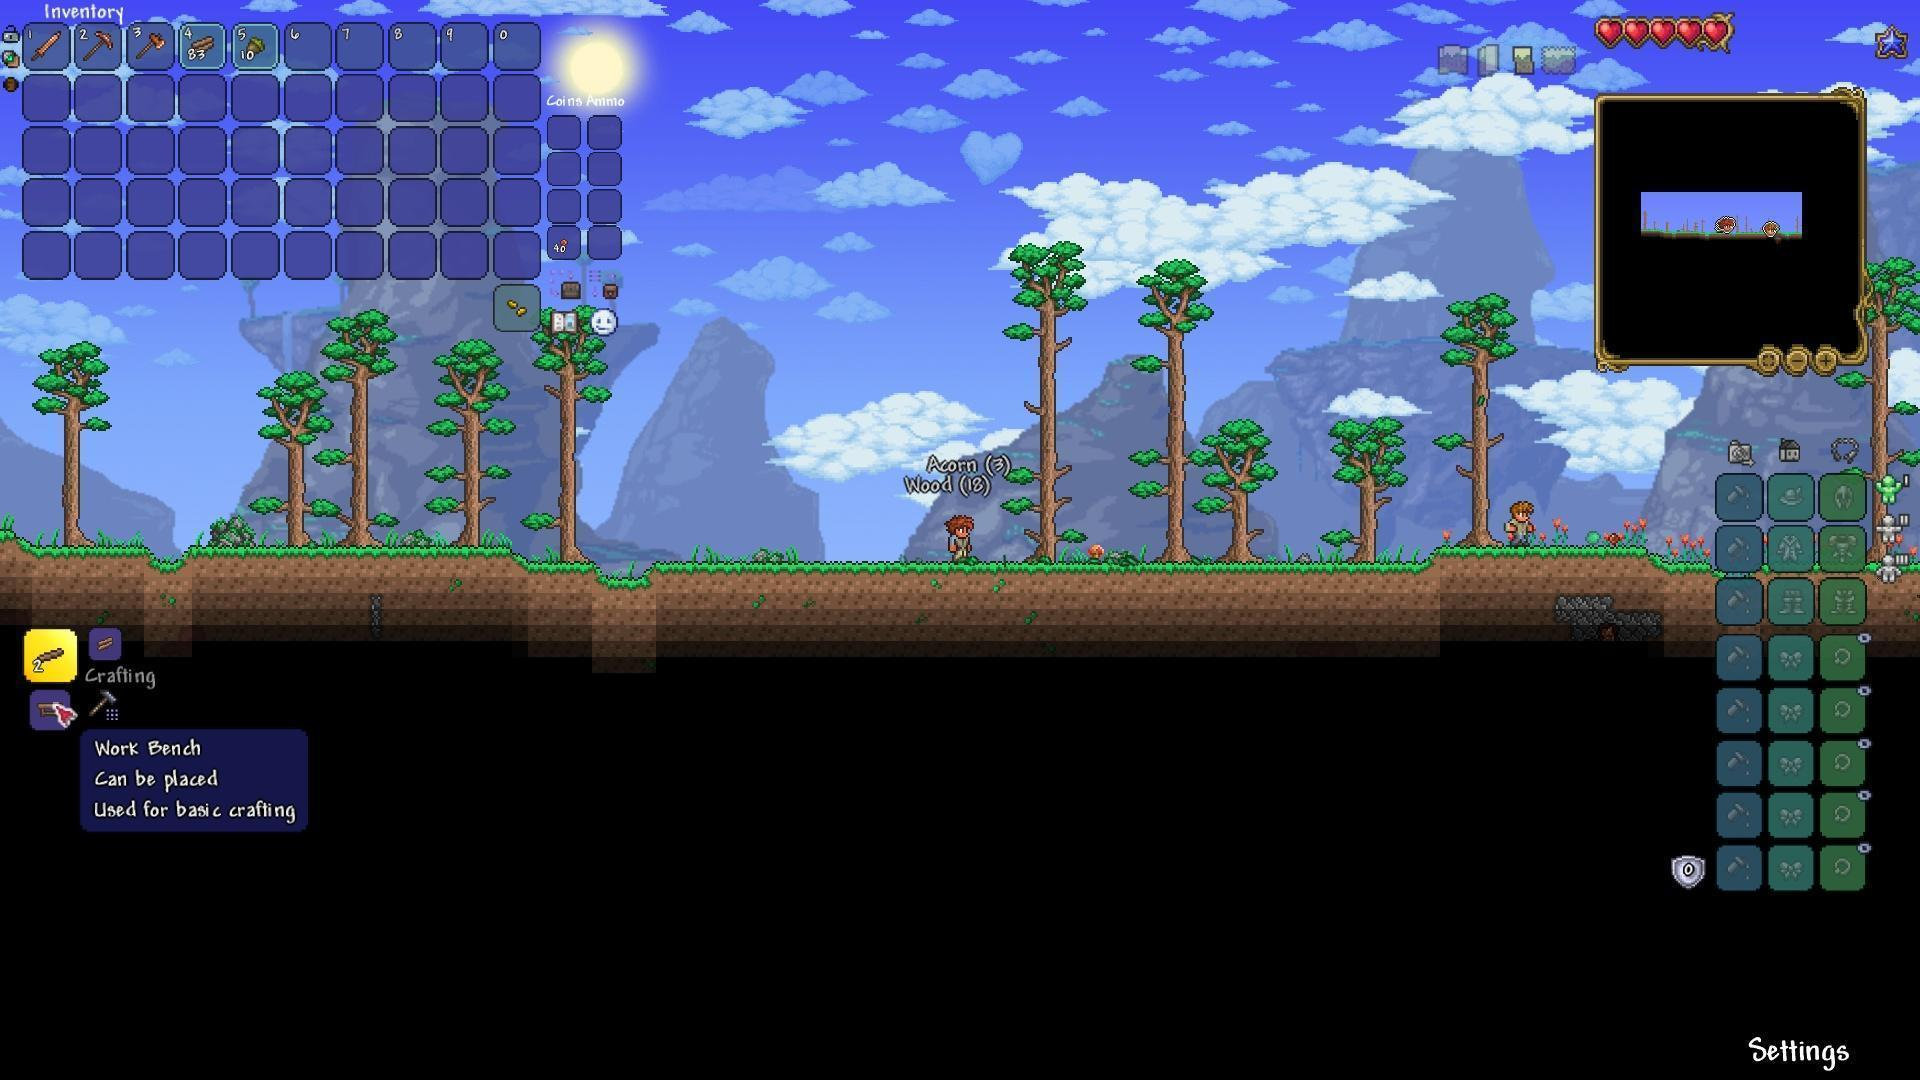wood: (88, 628, 120, 658), (185, 32, 218, 61)
workbench: (32, 695, 69, 720)
